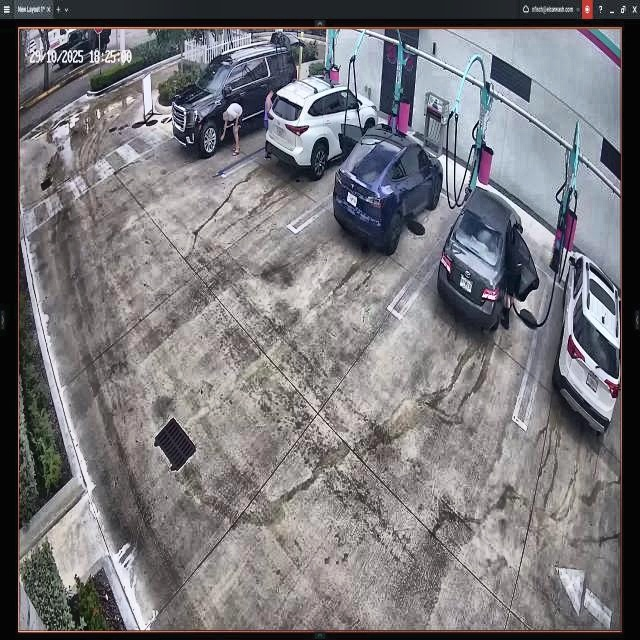Car: (438, 185, 540, 332), (334, 124, 443, 247), (266, 81, 378, 176)
